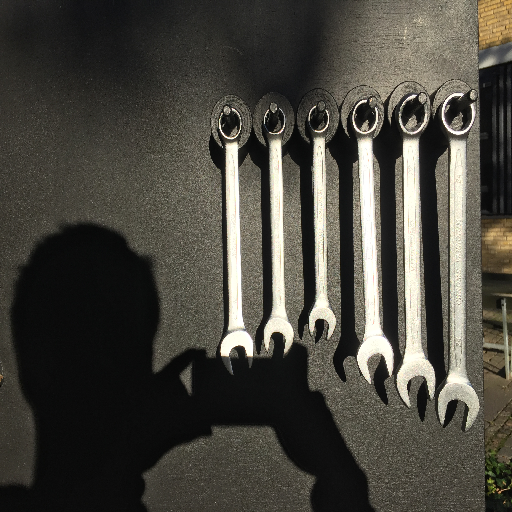bottom: (435, 373, 481, 433), (396, 353, 436, 408), (355, 332, 394, 382), (217, 330, 253, 373), (261, 313, 294, 358), (306, 301, 337, 342)
top: (438, 90, 475, 140), (394, 93, 432, 137), (350, 97, 380, 139), (216, 105, 246, 143), (304, 102, 332, 137), (261, 104, 288, 138)
